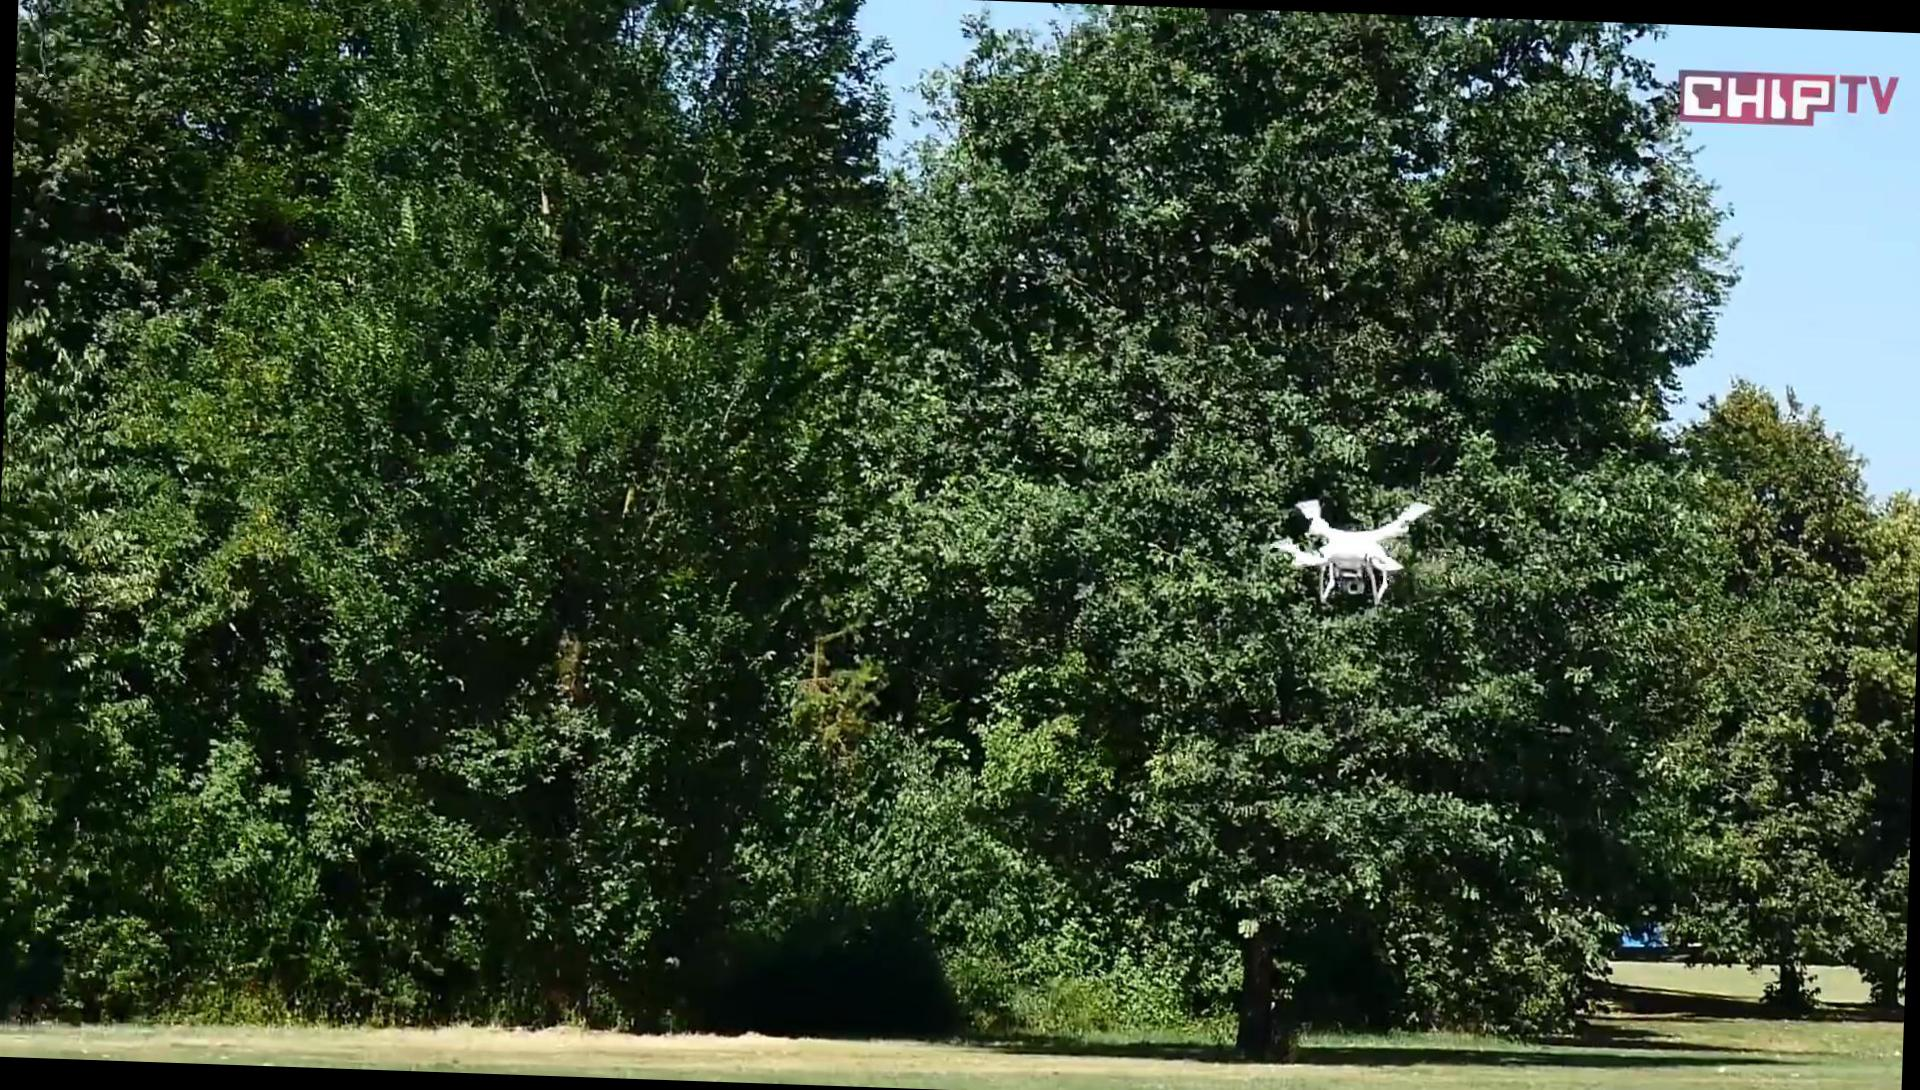drone: (1267, 492, 1432, 613)
